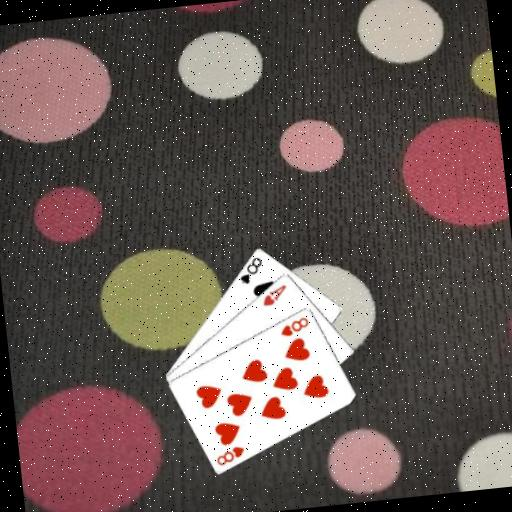8H: (276, 314, 312, 339), (212, 443, 247, 468)
8S: (235, 253, 265, 286)
AH: (258, 281, 290, 308)
